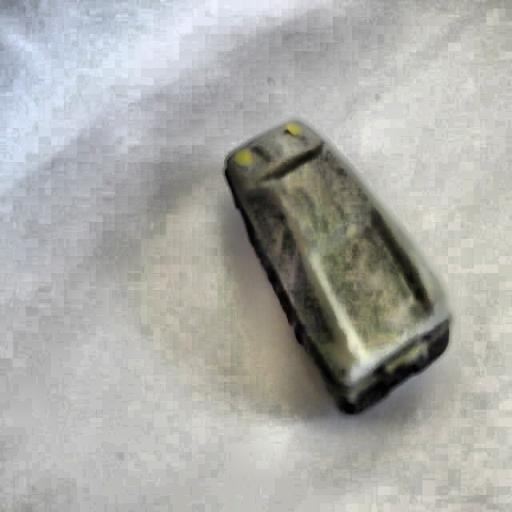normal_car: (220, 115, 456, 419)
